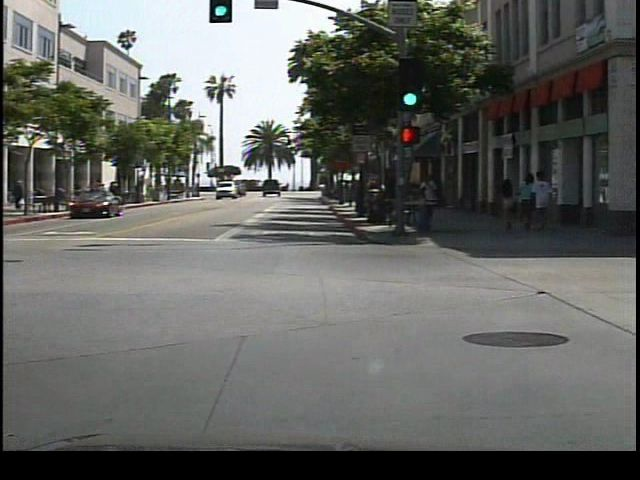person: (424, 169, 452, 224), (17, 176, 32, 213)
